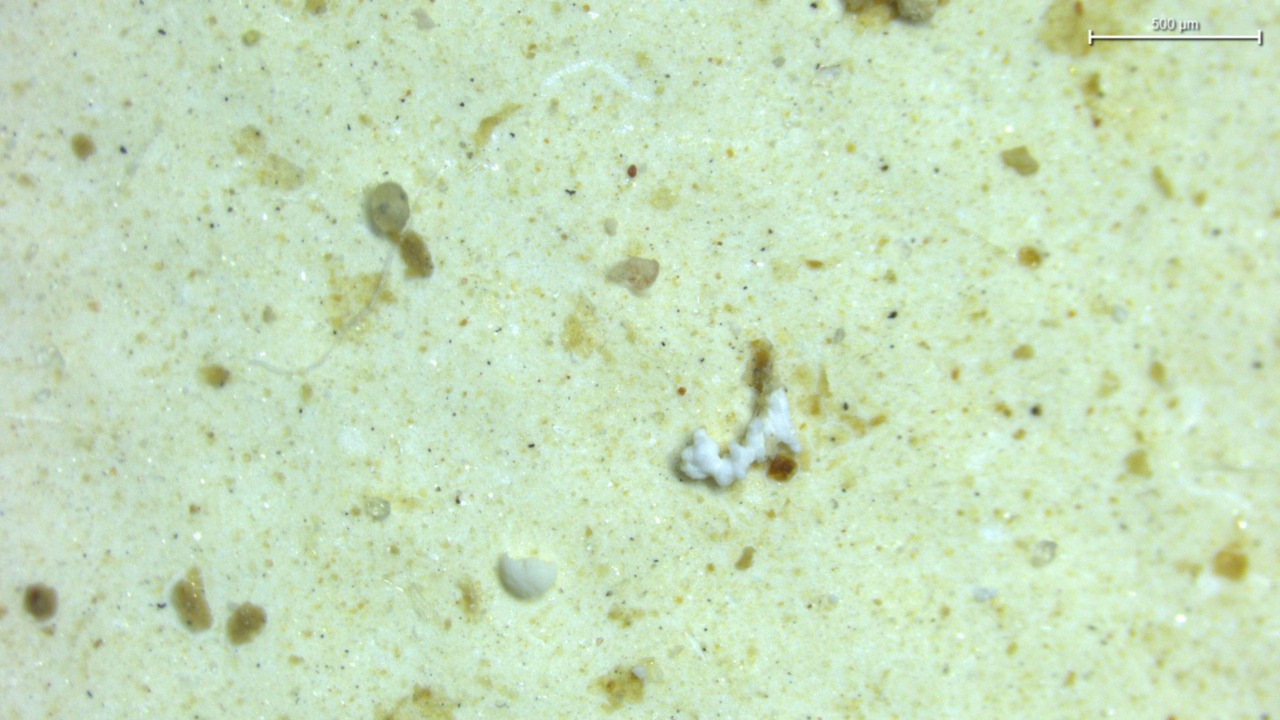microplastic_fragment: (680, 388, 800, 486), (365, 181, 409, 241), (498, 554, 556, 599), (606, 257, 659, 294)
